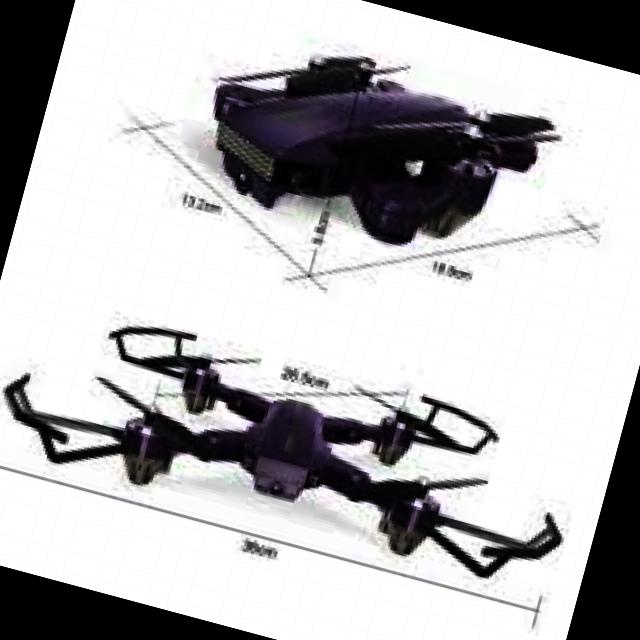drone: (0, 269, 588, 617)
